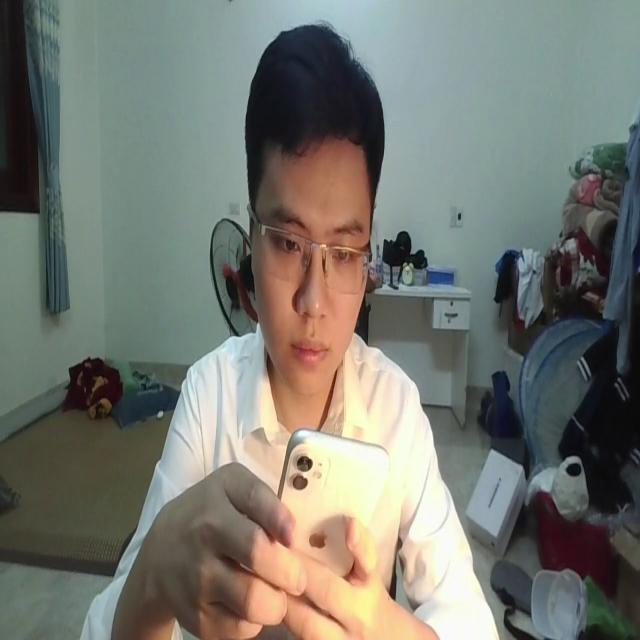phone: (273, 422, 388, 569)
student: (83, 23, 496, 640)
